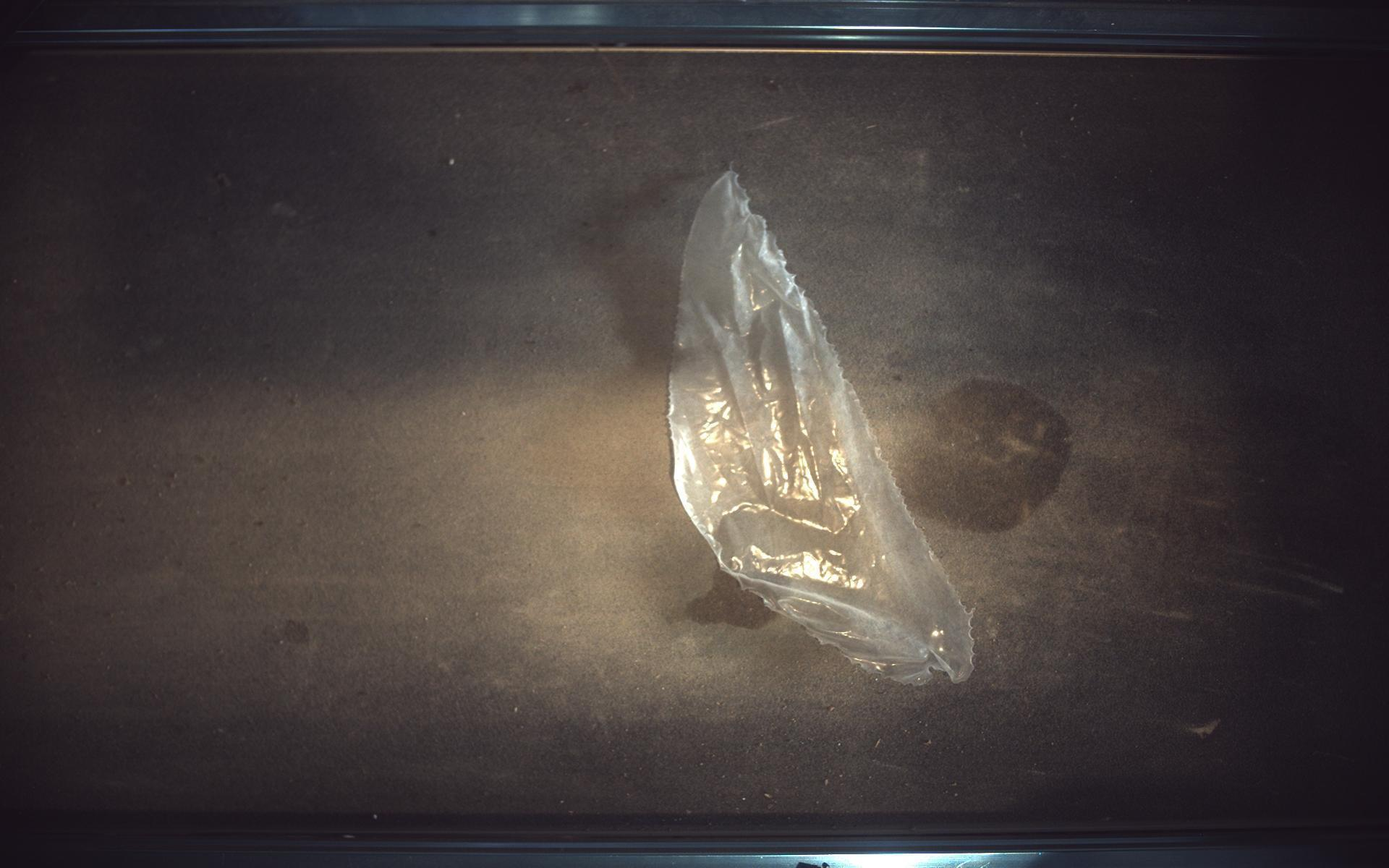general_w: (669, 170, 975, 685)
